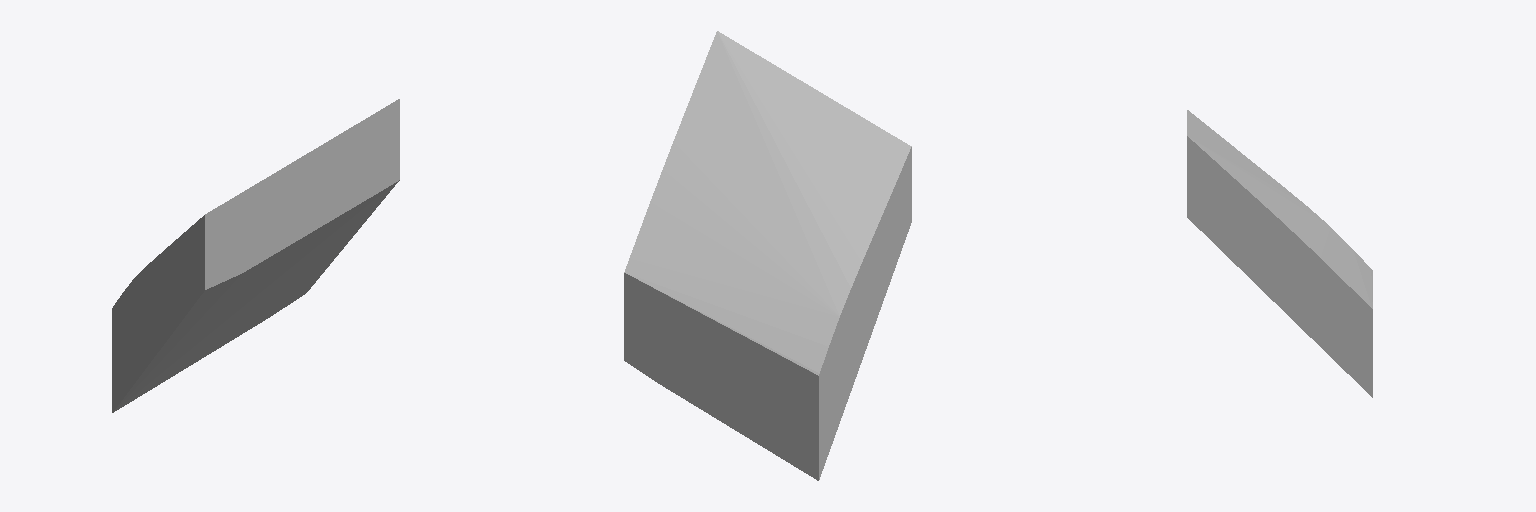
The model's file is phantom-elastrat_collision_469.obj.
3 views of the same model, side by side, from view 1: azimuth 30°, elevation 25°; view 2: azimuth 150°, elevation 25°; view 3: azimuth 270°, elevation 25° (orthographic).
Bounding box in the file's own units: 0.0059 × 0.0098 × 0.0049.